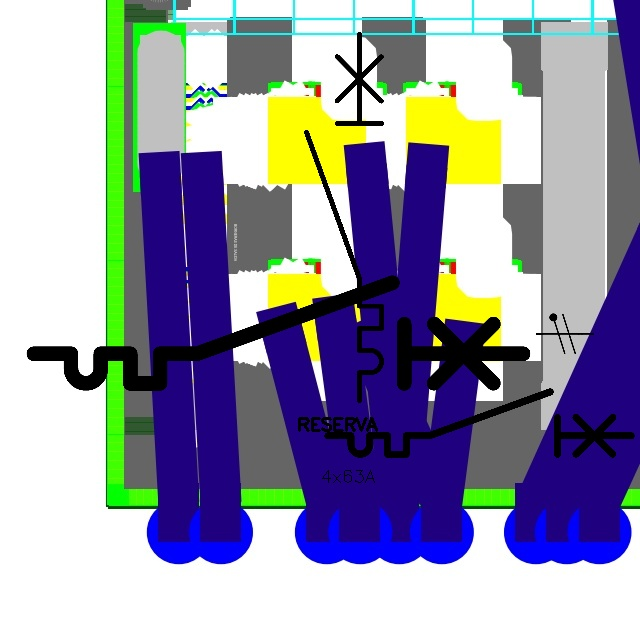interruptor_termomagnetico: (21, 270, 536, 396), (297, 25, 391, 410), (320, 384, 639, 462)
